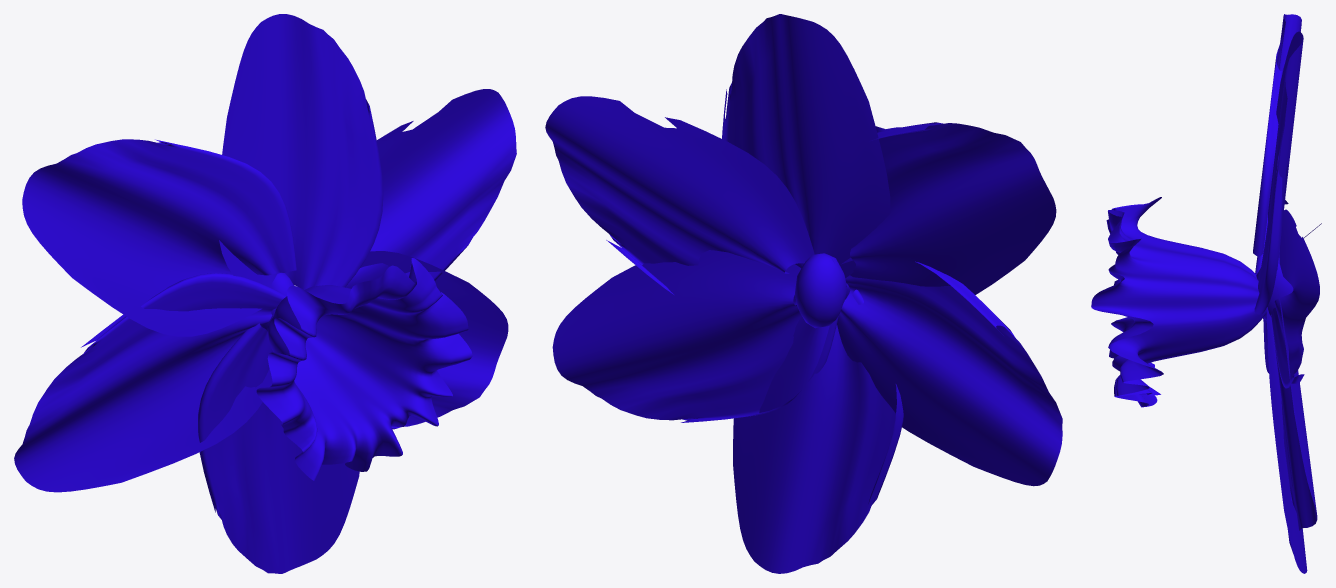
The model's file is flower_violet_import.fbx.
3 renders of one model, left to right at view 1: azimuth 30°, elevation 25°; view 2: azimuth 150°, elevation 25°; view 3: azimuth 270°, elevation 25°, orthographic. The views are drawn at different scales.
Parts seen in each view (by area): view 1: flower_0; view 2: flower_0; view 3: flower_0.
Boxes of the visible parts, bbox=[...] form: flower_0: bbox=[14, 14, 516, 573]; flower_0: bbox=[545, 14, 1062, 573]; flower_0: bbox=[1091, 14, 1321, 573].
Bounding box in the file's own units: 649 × 687 × 275.
